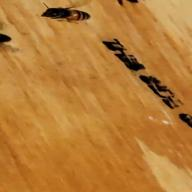Bee: (34, 6, 108, 26)
